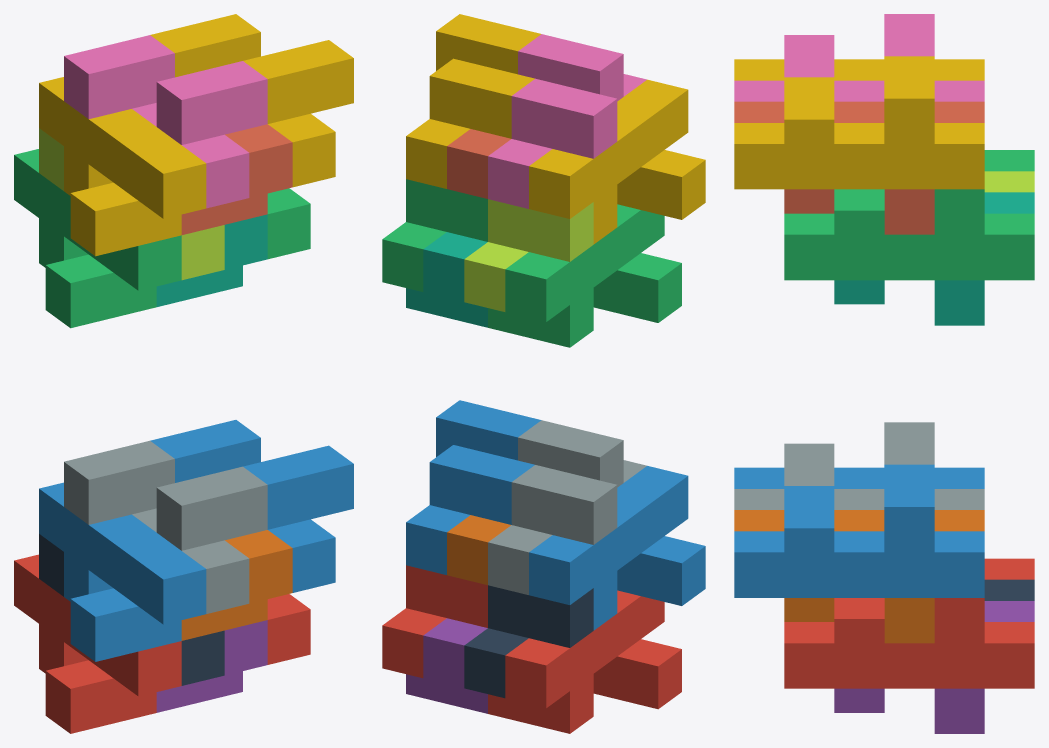
File: tiling.obj
3 views of the same model, side by side, from view 1: azimuth 30°, elevation 25°; view 2: azimuth 150°, elevation 25°; view 3: azimuth 270°, elevation 25° (orthographic). The views are drawn at different scales.
Visible parts, largest first — view 1: copy_1_domain_2, copy_1_domain_4, copy_2_domain_2, copy_2_domain_4, copy_2_domain_8, copy_2_domain_6, copy_1_domain_1, copy_1_domain_3, copy_1_domain_8, copy_1_domain_6, copy_1_domain_5, copy_1_domain_7 (+4 smaller); view 2: copy_1_domain_4, copy_1_domain_2, copy_1_domain_1, copy_1_domain_3, copy_2_domain_2, copy_2_domain_4, copy_2_domain_8, copy_2_domain_6, copy_2_domain_1, copy_2_domain_3, copy_2_domain_5, copy_2_domain_7 (+4 smaller); view 3: copy_2_domain_8, copy_2_domain_6, copy_2_domain_7, copy_2_domain_5, copy_2_domain_4, copy_2_domain_2, copy_1_domain_8, copy_1_domain_6, copy_1_domain_7, copy_1_domain_5, copy_1_domain_4, copy_1_domain_2 (+4 smaller).
Part boxes in pixels (<box>): copy_1_domain_2: <box>39,482,206,661</box>; copy_1_domain_4: <box>39,77,206,256</box>; copy_2_domain_2: <box>64,440,267,613</box>; copy_2_domain_4: <box>64,35,267,208</box>; copy_2_domain_8: <box>150,14,353,187</box>; copy_2_domain_6: <box>150,420,353,592</box>; copy_1_domain_1: <box>14,554,181,733</box>; copy_1_domain_3: <box>14,149,181,328</box>; copy_1_domain_8: <box>181,124,292,234</box>; copy_1_domain_6: <box>181,530,292,640</box>; copy_1_domain_5: <box>156,620,267,712</box>; copy_1_domain_7: <box>156,214,267,306</box>; copy_1_domain_4: <box>529,79,705,244</box>; copy_1_domain_2: <box>529,466,705,630</box>; copy_1_domain_1: <box>488,590,681,733</box>; copy_1_domain_3: <box>488,204,681,347</box>; copy_2_domain_2: <box>488,420,646,594</box>; copy_2_domain_4: <box>488,34,646,208</box>; copy_2_domain_8: <box>406,14,540,188</box>; copy_2_domain_6: <box>406,400,541,574</box>; copy_2_domain_1: <box>464,585,593,698</box>; copy_2_domain_3: <box>464,199,593,311</box>; copy_2_domain_5: <box>382,565,487,678</box>; copy_2_domain_7: <box>382,179,487,291</box>; copy_2_domain_8: <box>734,56,984,189</box>; copy_2_domain_6: <box>734,464,984,597</box>; copy_2_domain_7: <box>784,189,1034,280</box>; copy_2_domain_5: <box>784,598,1034,688</box>; copy_2_domain_4: <box>734,14,984,101</box>; copy_2_domain_2: <box>734,422,984,509</box>; copy_1_domain_8: <box>734,101,984,234</box>; copy_1_domain_6: <box>734,510,984,643</box>; copy_1_domain_7: <box>834,192,1034,325</box>; copy_1_domain_5: <box>834,601,1034,733</box>; copy_1_domain_4: <box>734,59,984,80</box>; copy_1_domain_2: <box>734,467,984,488</box>.
Size of the model in its own units: 6 by 14 by 6.
